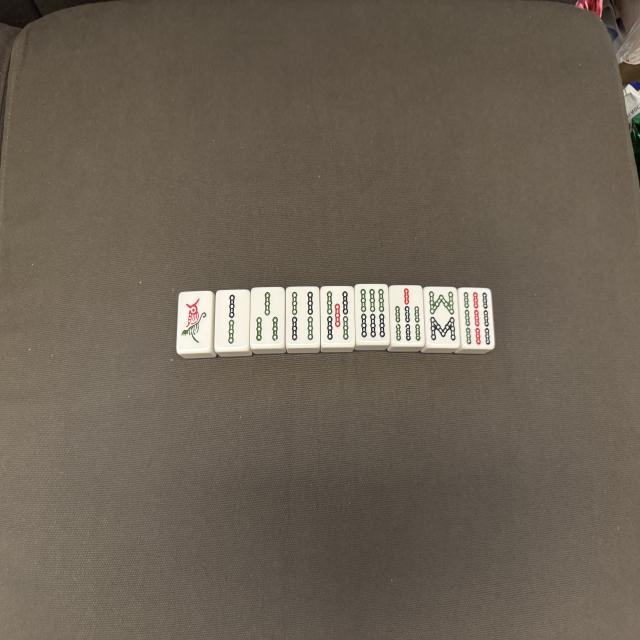s1: (178, 291, 213, 351)
s2: (217, 291, 250, 350)
s3: (253, 289, 286, 347)
s4: (288, 288, 322, 347)
s5: (321, 287, 353, 345)
s6: (355, 286, 388, 342)
s7: (391, 286, 425, 345)
s8: (425, 288, 458, 347)
s9: (460, 288, 494, 348)
